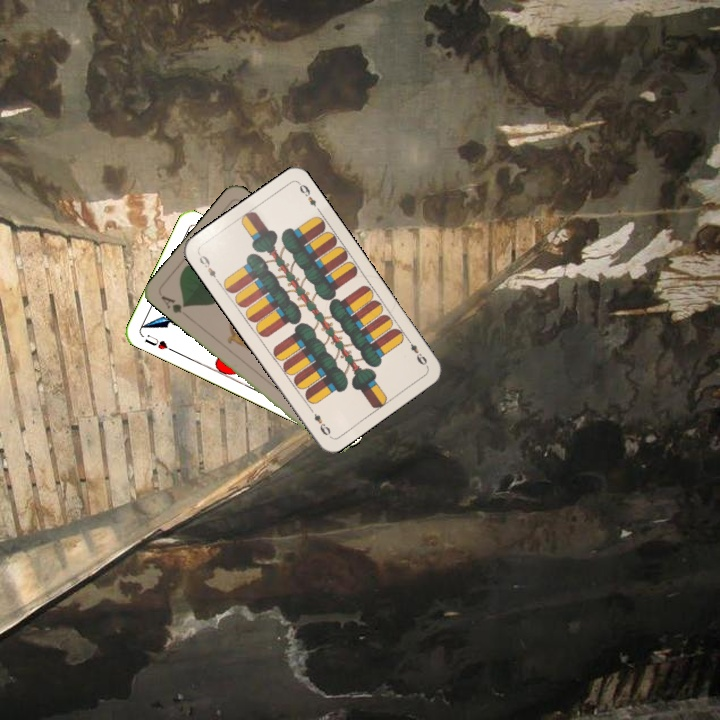E9: (195, 250, 222, 286), (402, 334, 430, 368)
GA: (157, 291, 192, 320)
HU: (140, 330, 177, 354)
